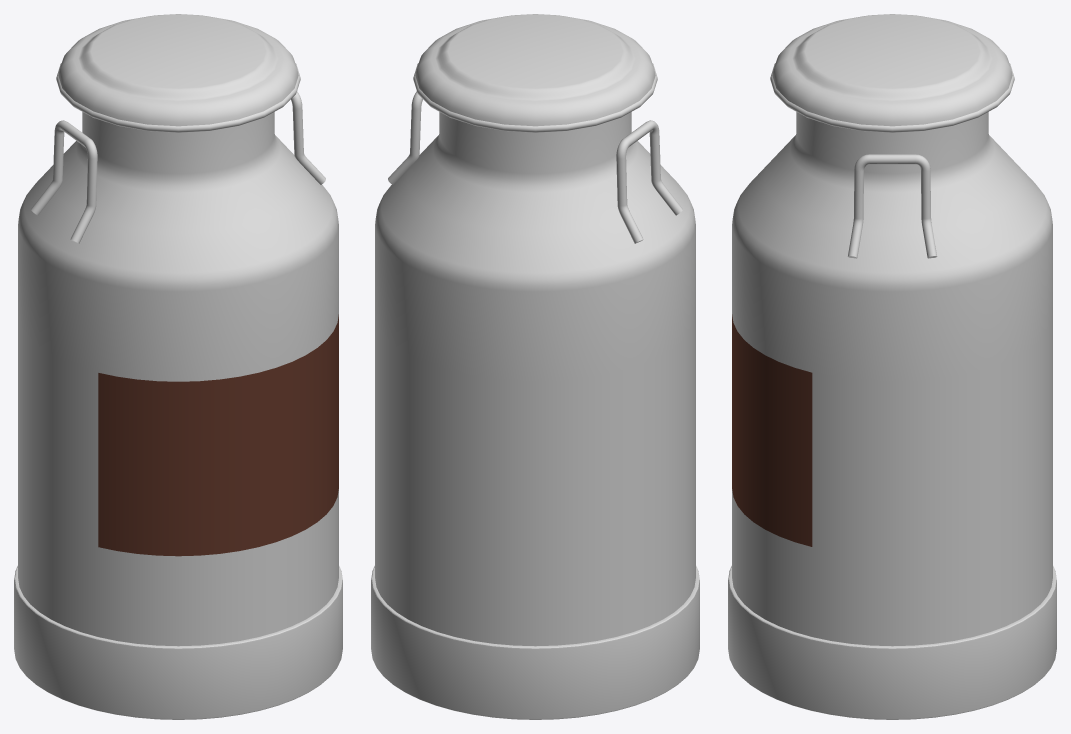
Rendered from milk-can.FBX.
3 renders of one model, left to right at view 1: azimuth 30°, elevation 25°; view 2: azimuth 150°, elevation 25°; view 3: azimuth 270°, elevation 25°, orthographic.
Parts seen in each view (by area): view 1: milk-can; view 2: milk-can; view 3: milk-can.
Boxes of the visible parts, x1,y1,x2,y2 form: milk-can: (14, 14, 342, 719); milk-can: (371, 14, 699, 719); milk-can: (728, 14, 1056, 719).
Size of the model in its own units: 16.14 by 32.48 by 16.14.
